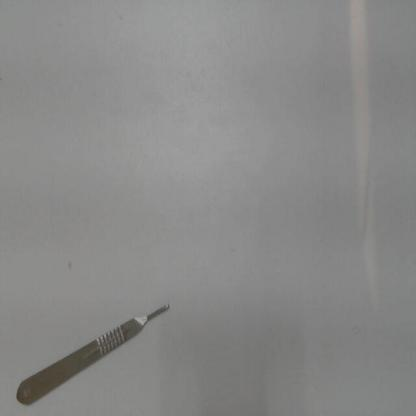No.3 BP Handle: (10, 294, 174, 407)
